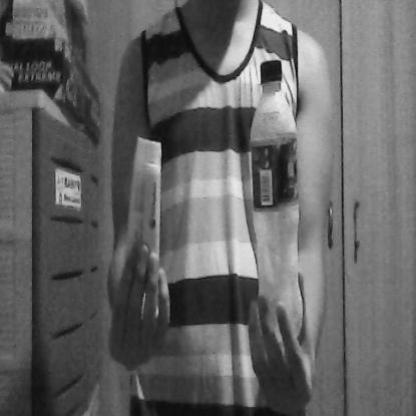Plastic Bottle: (245, 44, 311, 351)
